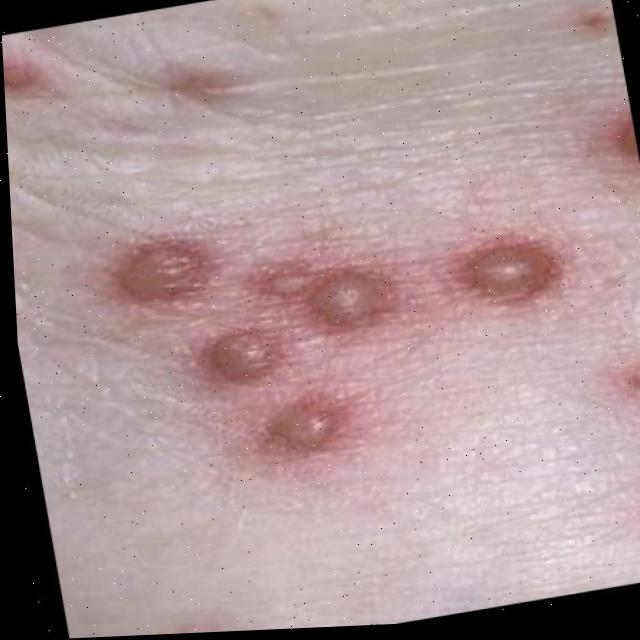Shingles: (104, 221, 558, 434)
